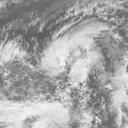cyclone: (42, 32, 90, 77)
